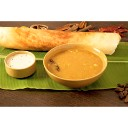dosa: (1, 26, 122, 54)
